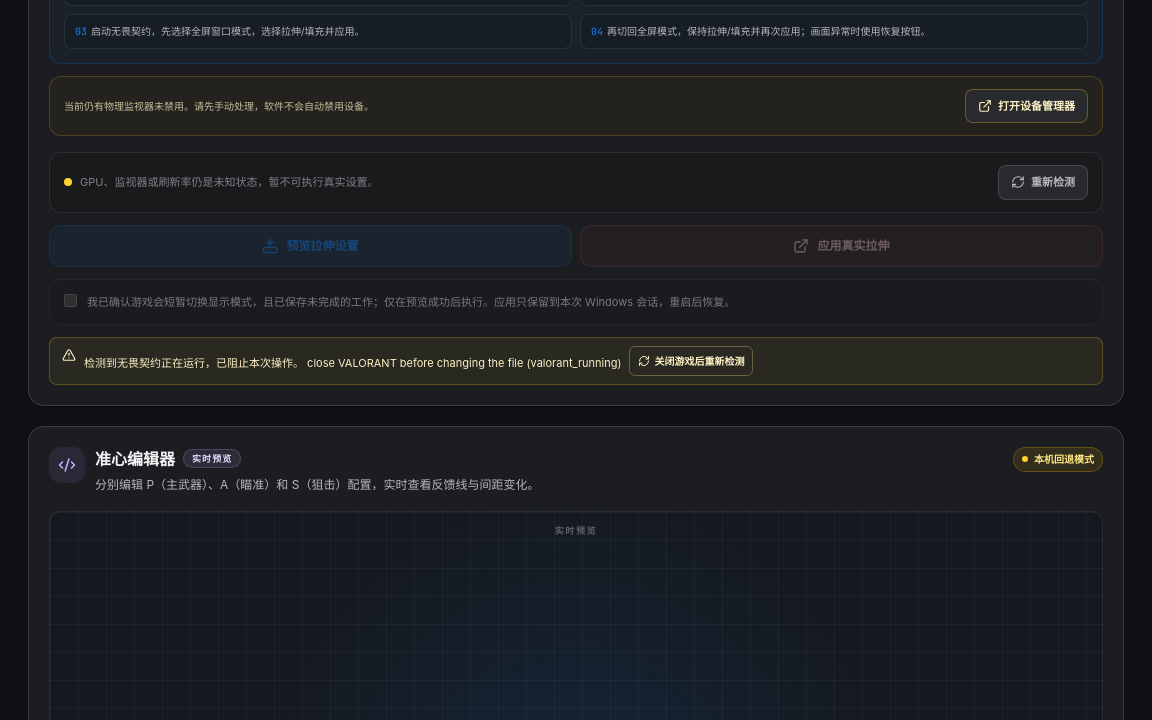
Test case: ValorantLabPage › shows a game-running 409 detail and an explicit re-detect action
(page scrolled)
Expected: the text "close VALORANT before changing the file" is shown, top-left (84, 356), bottom-right (622, 370)
Click the button "关闭游戏后重新检测" at (692, 360), box top-left (630, 346), bottom-right (754, 376)
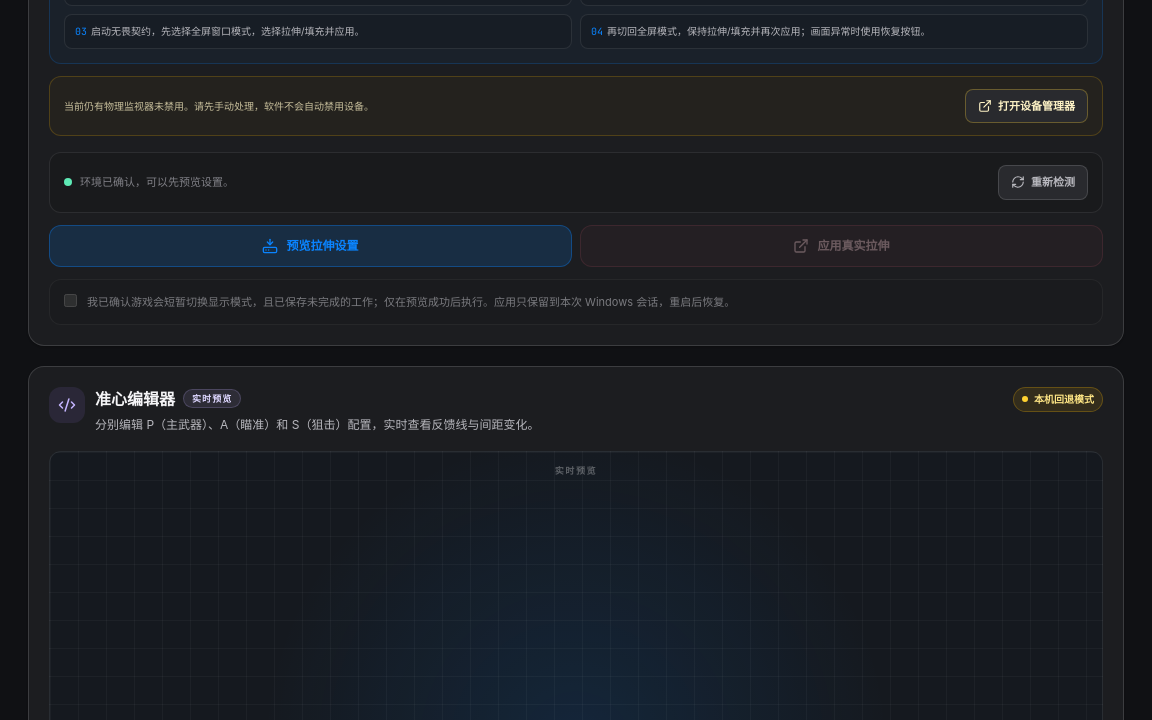
Result: the text "环境已确认，可以先预览设置。" is shown at top-left (80, 174), bottom-right (234, 190)
